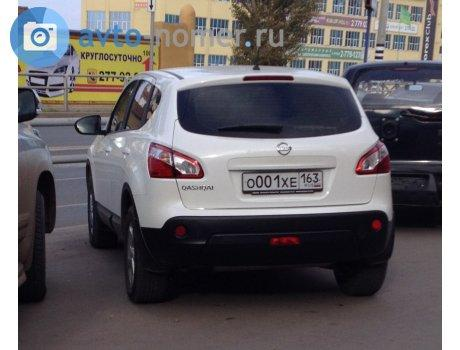license-plateSW: (242, 171, 322, 190)
